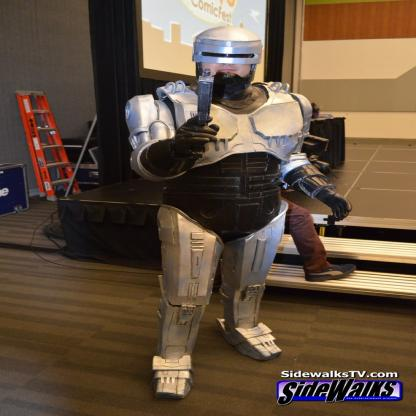Helmet: (197, 25, 265, 90)
